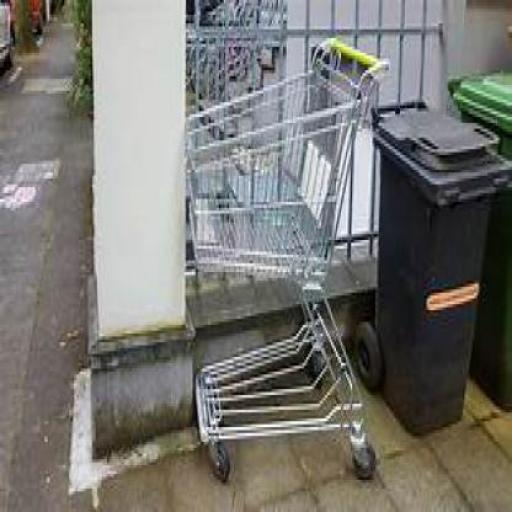shopping_cart: (175, 38, 389, 480)
